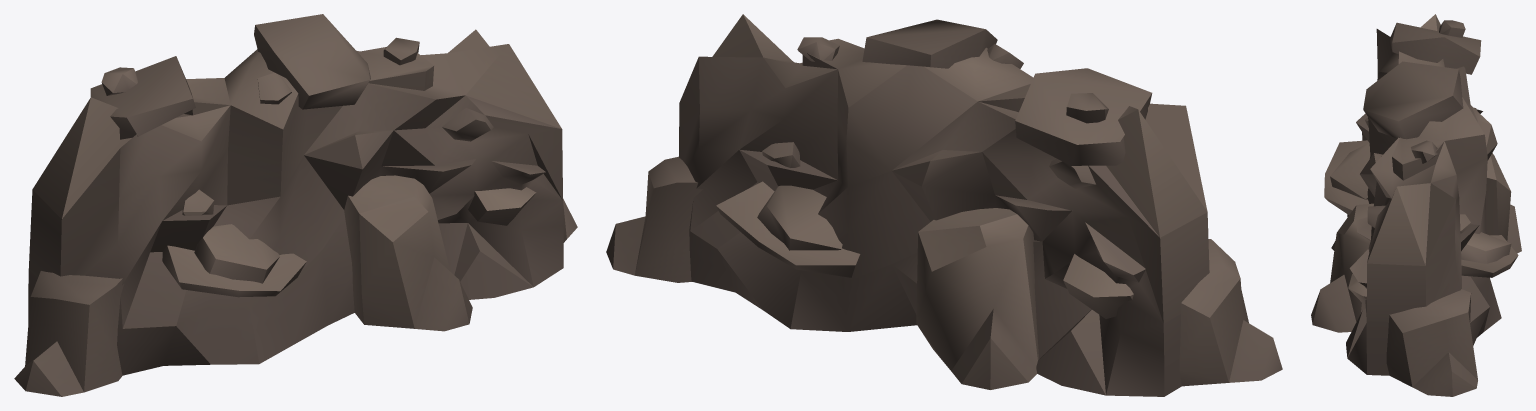
Rendered from rubble_large.glb.
3 renders of one model, left to right at view 1: azimuth 30°, elevation 25°; view 2: azimuth 150°, elevation 25°; view 3: azimuth 270°, elevation 25°, orthographic. The views are drawn at different scales.
Visible parts, largest first — view 1: rubble_large; view 2: rubble_large; view 3: rubble_large.
Boxes of the visible parts, <box> form: rubble_large: <box>14,14,577,396</box>; rubble_large: <box>606,14,1282,396</box>; rubble_large: <box>1311,14,1521,396</box>.
Size of the model in its own units: 8.13 by 3.5 by 3.18.
1 material, 1 textured.
